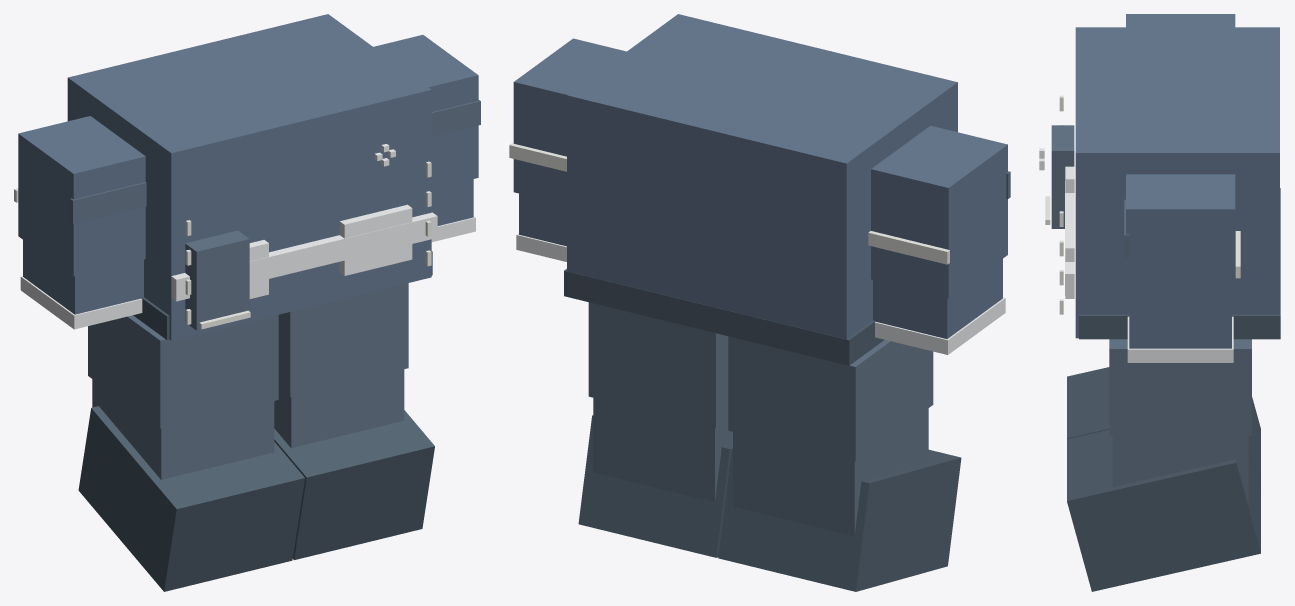
Rendered from workwear-navy.glb.
The picture shows the model from 3 angles, left to right: view 1: azimuth 30°, elevation 25°; view 2: azimuth 150°, elevation 25°; view 3: azimuth 270°, elevation 25°; orthographic projection. The views are drawn at different scales.
Visible parts, largest first — view 1: jacket, shoe-Right, trouser-Right, upper-sleeve-Right, shoe-Left, trouser-Left, lower-trouser-Right, lower-trouser-Left, upper-sleeve-Left, tool-pocket, reflective-band, lower-sleeve-Right (+8 smaller); view 2: jacket, trouser-Right, shoe-Right, upper-sleeve-Right, trouser-Left, lower-trouser-Right, lower-trouser-Left, shoe-Left, upper-sleeve-Left, utility-belt, lower-sleeve-Right, cuff-Right (+4 smaller); view 3: jacket, shoe-Left, upper-sleeve-Left, trouser-Left, lower-trouser-Left, lower-sleeve-Left, shoe-Right, utility-belt, tool-pocket, cuff-Left, upper-sleeve-Right, reflective-band (+1 smaller).
Boxes of the visible parts, x1,y1,x2,y2 form: jacket: (67, 14, 431, 340); shoe-Right: (78, 406, 304, 591); trouser-Right: (88, 315, 278, 428); upper-sleeve-Right: (18, 116, 145, 276); shoe-Left: (274, 410, 434, 560); trouser-Left: (278, 283, 408, 396); lower-trouser-Right: (92, 379, 274, 479); lower-trouser-Left: (274, 369, 404, 448); upper-sleeve-Left: (373, 35, 478, 188); tool-pocket: (185, 230, 249, 330); reflective-band: (171, 212, 437, 301); lower-sleeve-Right: (23, 240, 143, 314); jacket: (567, 14, 957, 339); trouser-Right: (728, 336, 933, 461); shoe-Right: (718, 449, 961, 591); upper-sleeve-Right: (871, 125, 1007, 298); trouser-Left: (588, 302, 728, 427); lower-trouser-Right: (733, 408, 928, 536); lower-trouser-Left: (593, 398, 732, 501); shoe-Left: (578, 415, 732, 557); upper-sleeve-Left: (513, 38, 626, 204); utility-belt: (564, 269, 884, 365); lower-sleeve-Right: (873, 259, 1002, 338); cuff-Right: (875, 297, 1005, 354); jacket: (1075, 27, 1279, 338); shoe-Left: (1067, 430, 1260, 591); upper-sleeve-Left: (1126, 174, 1235, 310); trouser-Left: (1109, 339, 1251, 435); lower-trouser-Left: (1112, 436, 1248, 503); lower-sleeve-Left: (1129, 310, 1231, 348); shoe-Right: (1067, 367, 1260, 490); utility-belt: (1079, 188, 1280, 339); tool-pocket: (1051, 125, 1074, 228); cuff-Left: (1127, 316, 1233, 362); upper-sleeve-Right: (1126, 14, 1235, 27); reflective-band: (1065, 180, 1074, 295).
Size of the model in its own units: 1.08 by 1.13 by 0.56.
